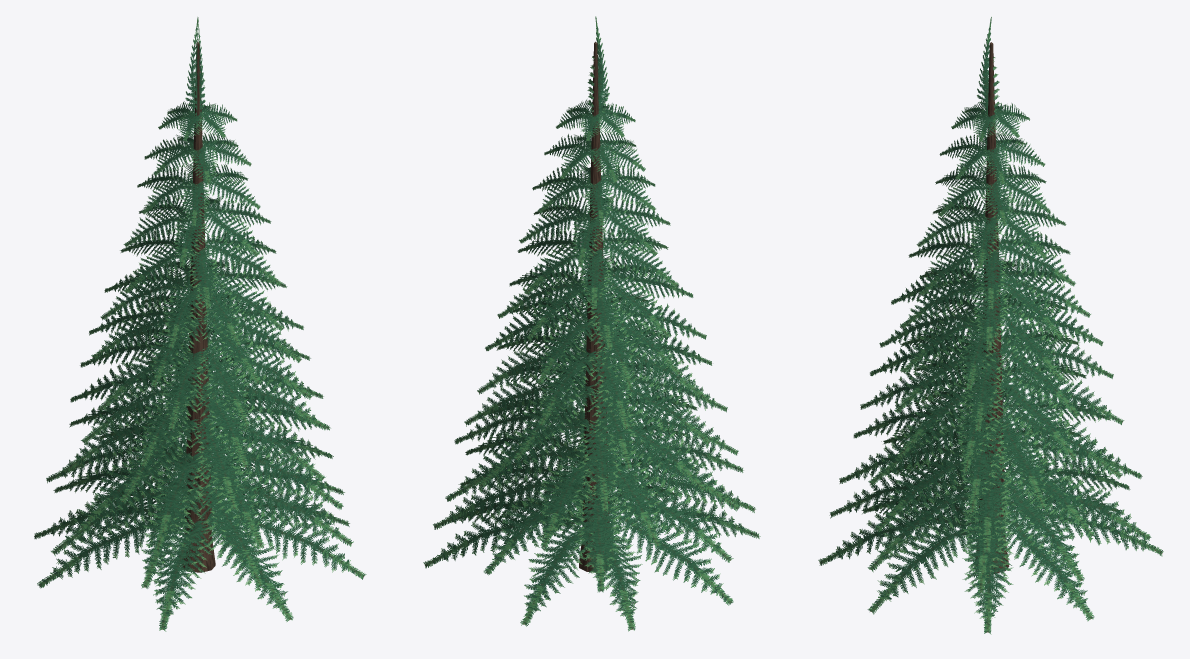
Rendered from tree-spruce-small.gltf.
3 views of the same model, side by side, from view 1: azimuth 30°, elevation 25°; view 2: azimuth 150°, elevation 25°; view 3: azimuth 270°, elevation 25° (orthographic).
Visible parts, largest first — view 1: tree_spruce_small; view 2: tree_spruce_small; view 3: tree_spruce_small.
Boxes of the visible parts, left/top/right/bottom form: tree_spruce_small: left=34, top=17, right=366, bottom=631; tree_spruce_small: left=423, top=16, right=760, bottom=631; tree_spruce_small: left=818, top=17, right=1163, bottom=634.
Bounding box in the file's own units: 3.4 × 5.7 × 3.4.
2 materials, 2 textured.
